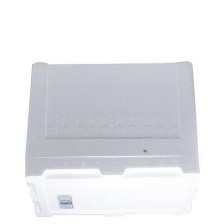foam_box: (17, 55, 207, 223)
